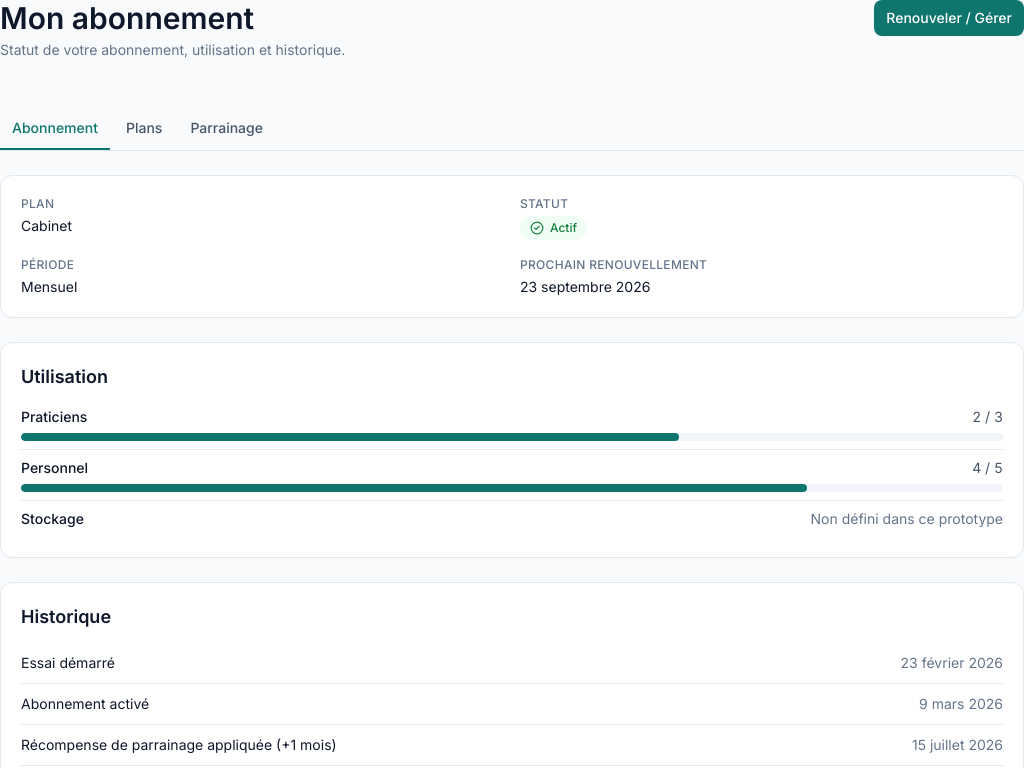
Test case: SubscriptionPage › Renouveler opens an informational dialog and never mutates subscription state — no fake payment
Click the button "Renouveler / Gérer" at (949, 18), box [874,0,1023,36]
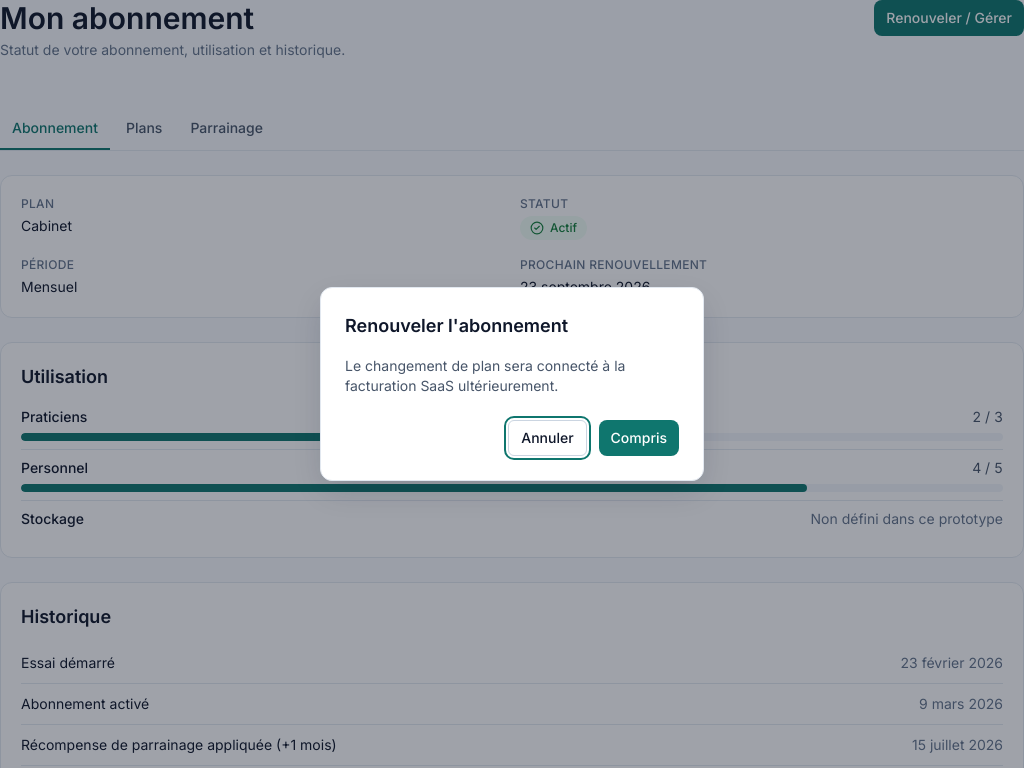
Expected: the text "Le changement de plan sera connecté à la facturation SaaS ultérieurement." is shown, [345,357,625,394]
Click the button "Compris" at (639, 438), box [599,420,679,456]
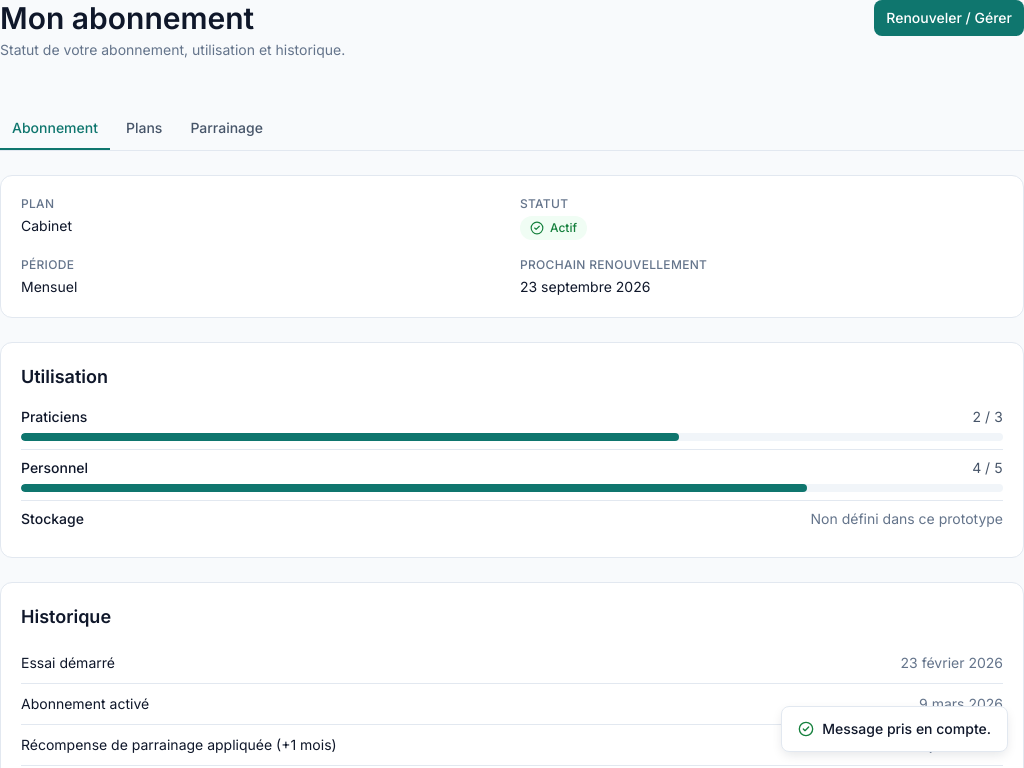
Expected: the text "Actif" is shown, [520,216,587,240]
Expected: the text "Message pris en compte." is shown, [781,706,1008,752]
